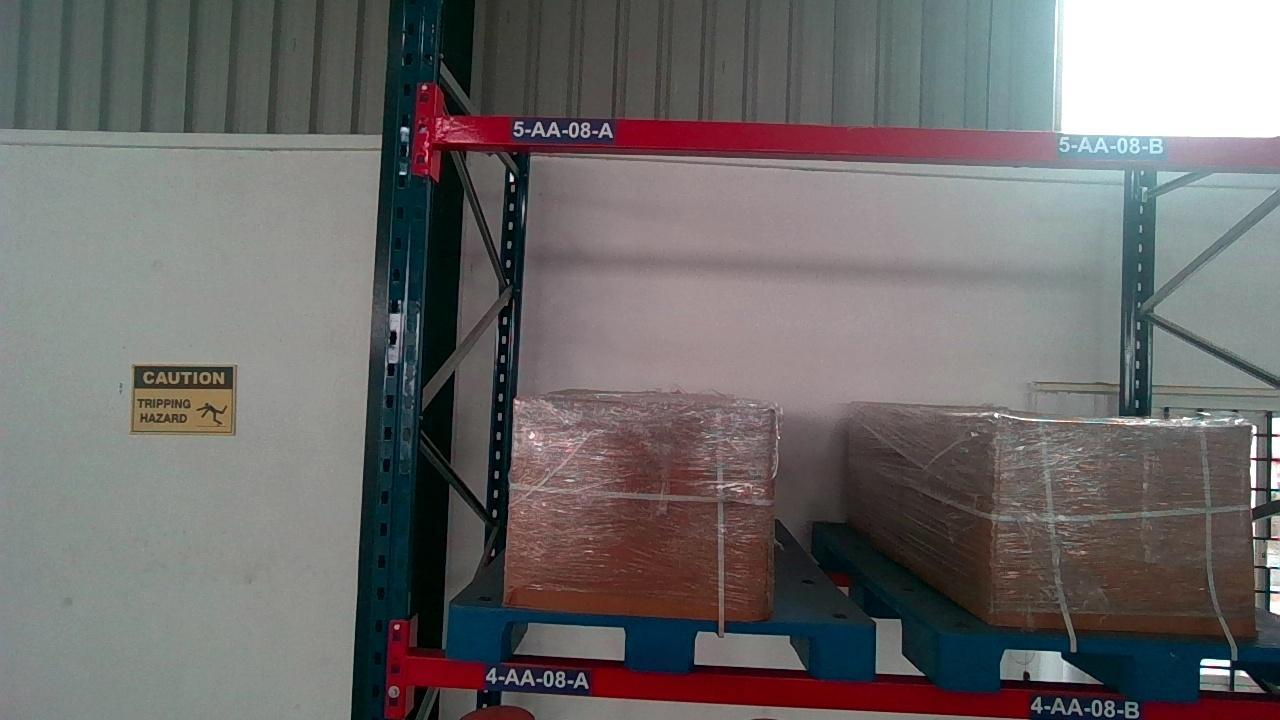h_rack: (427, 117, 1251, 161), (1038, 133, 1279, 160)
small_pallet: (449, 613, 872, 670), (950, 638, 1278, 696), (1043, 132, 1279, 160)
